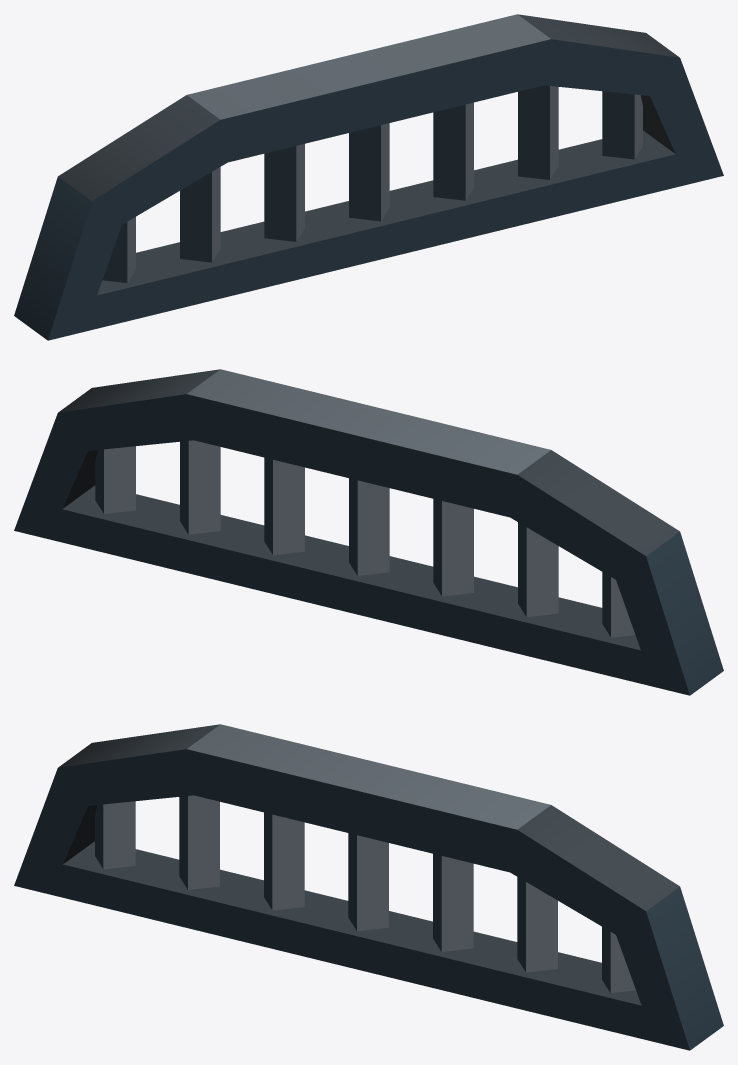
The model's file is jail_bars_arch_top_double.fbx.
3 views of the same model, one above another, from view 1: azimuth 30°, elevation 25°; view 2: azimuth 150°, elevation 25°; view 3: azimuth 330°, elevation 25° (orthographic).
Parts seen in each view (by area): view 1: jail_bars_arch_top_double; view 2: jail_bars_arch_top_double; view 3: jail_bars_arch_top_double.
Boxes of the visible parts, x1,y1,x2,y2 form: jail_bars_arch_top_double: (14, 14, 723, 340); jail_bars_arch_top_double: (14, 369, 723, 695); jail_bars_arch_top_double: (14, 724, 723, 1050).
Size of the model in its own units: 200 by 50.55 by 17.42.
